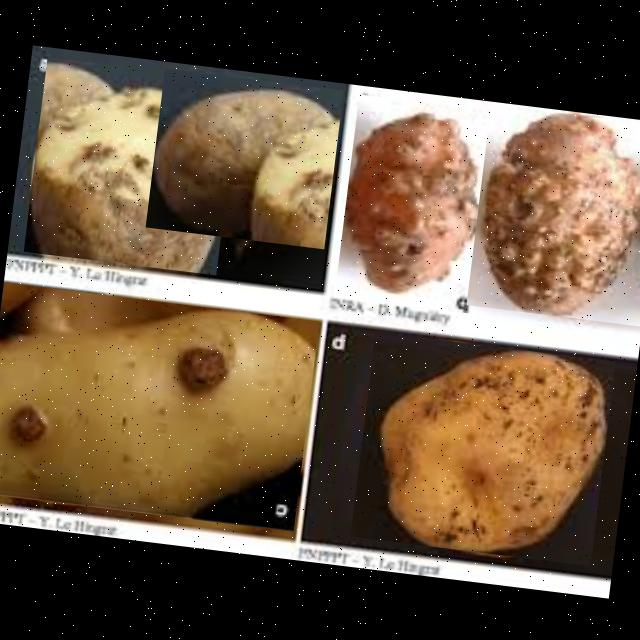Damaged potato: (22, 55, 238, 274)
Diseased-fungal potato: (0, 281, 318, 530), (349, 330, 614, 565), (465, 102, 640, 325), (144, 67, 342, 248), (333, 93, 495, 312)
